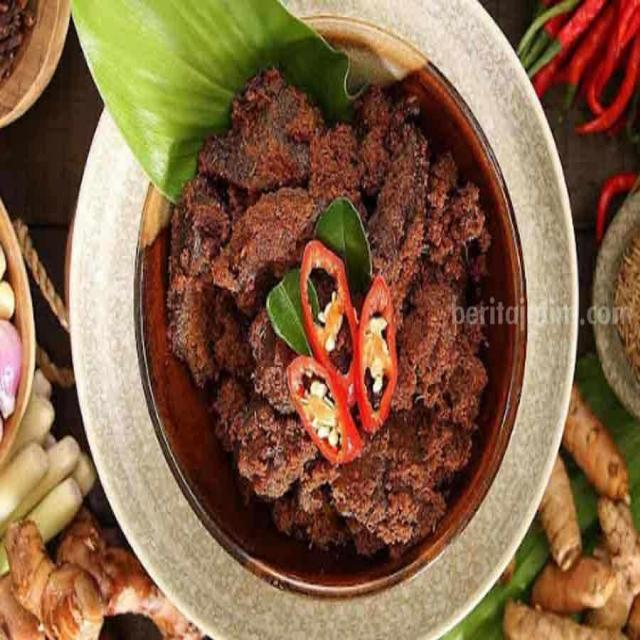Rendang: (138, 52, 516, 582)
